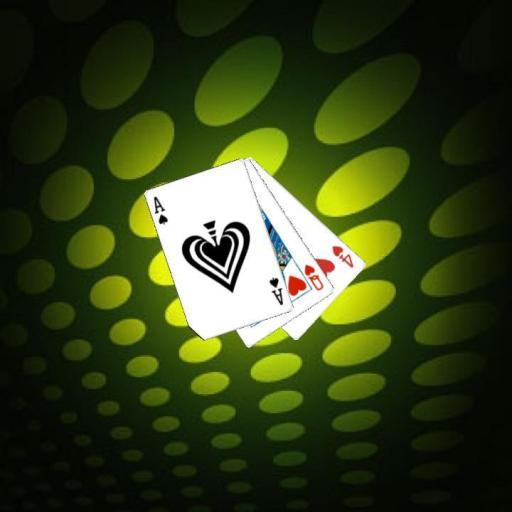4H: (329, 243, 356, 270)
AS: (151, 193, 170, 226), (267, 275, 285, 307)
QH: (302, 261, 326, 292)
